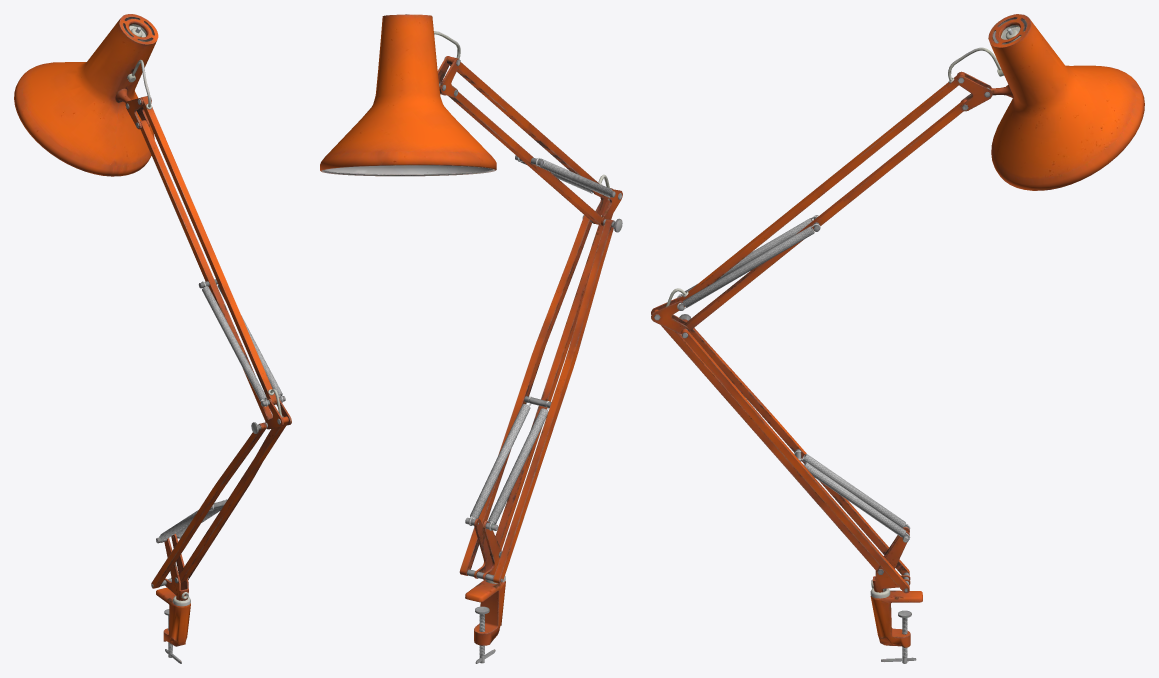
Rendered from desk_lamp_arm_01_1k.glb.
The picture shows the model from 3 angles, left to right: view 1: azimuth 30°, elevation 25°; view 2: azimuth 150°, elevation 25°; view 3: azimuth 270°, elevation 25°; orthographic projection. The views are drawn at different scales.
Visible parts, largest first — view 1: desk_lamp_arm_01; view 2: desk_lamp_arm_01; view 3: desk_lamp_arm_01.
Boxes of the visible parts, x1,y1,x2,y2 form: desk_lamp_arm_01: (14,14,291,663); desk_lamp_arm_01: (320,14,622,663); desk_lamp_arm_01: (651,14,1144,663).
Size of the model in its own units: 0.2017 by 0.8926 by 0.6139.
2 materials, 2 textured.
